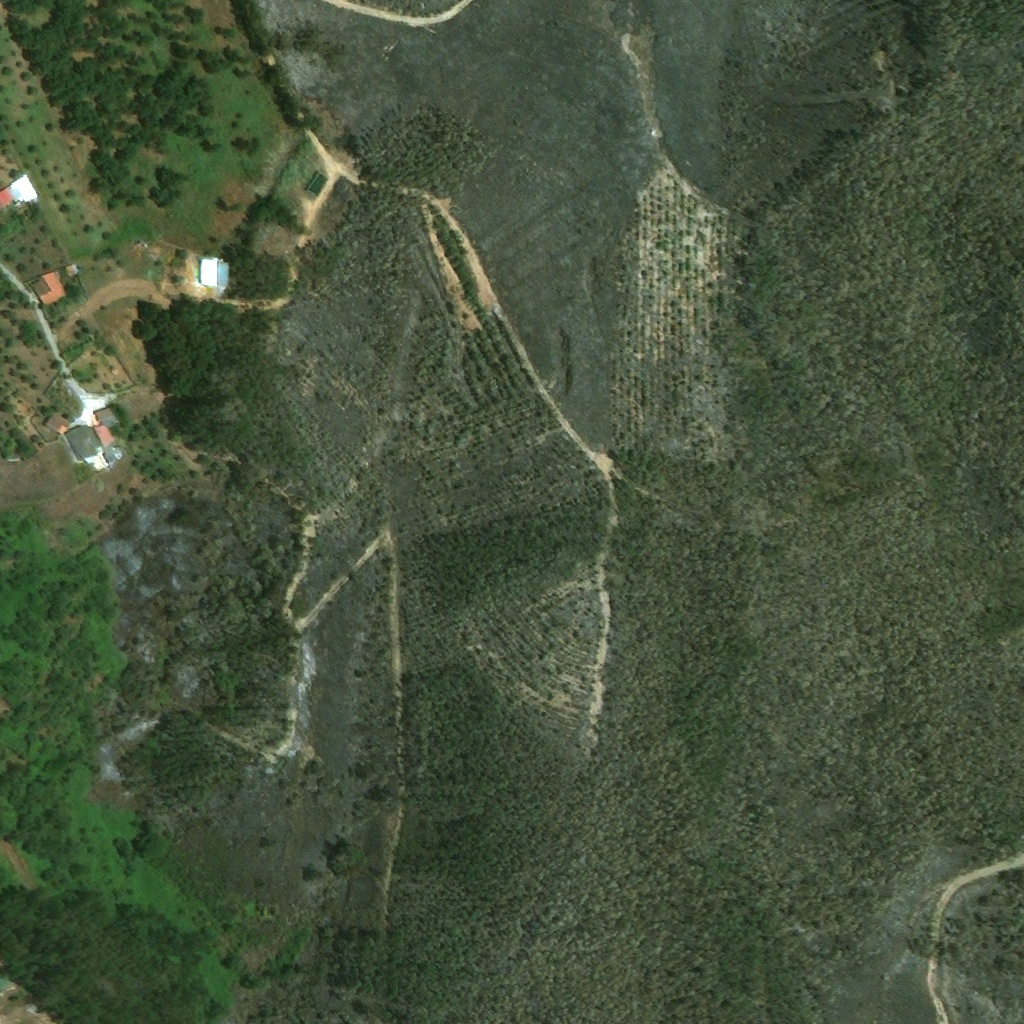0 no-damage: (67, 423, 106, 458), (0, 174, 39, 209), (31, 270, 69, 305), (45, 412, 73, 432), (95, 424, 119, 446), (96, 406, 122, 426), (218, 263, 230, 282), (201, 259, 212, 279), (67, 264, 81, 276)
